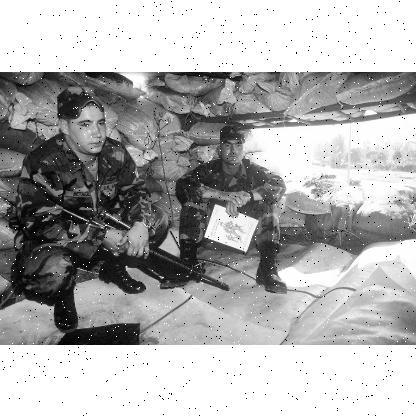gun: (59, 206, 229, 292)
